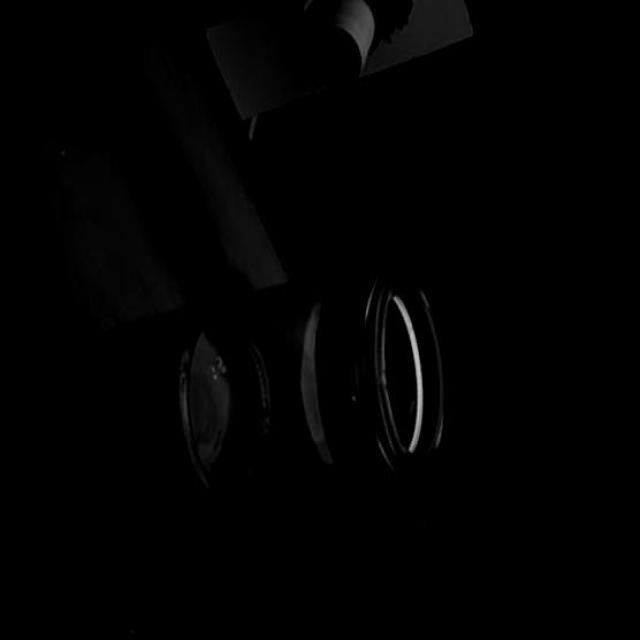defect: (366, 358, 394, 406), (342, 384, 362, 416)
glass: (152, 226, 468, 558)
